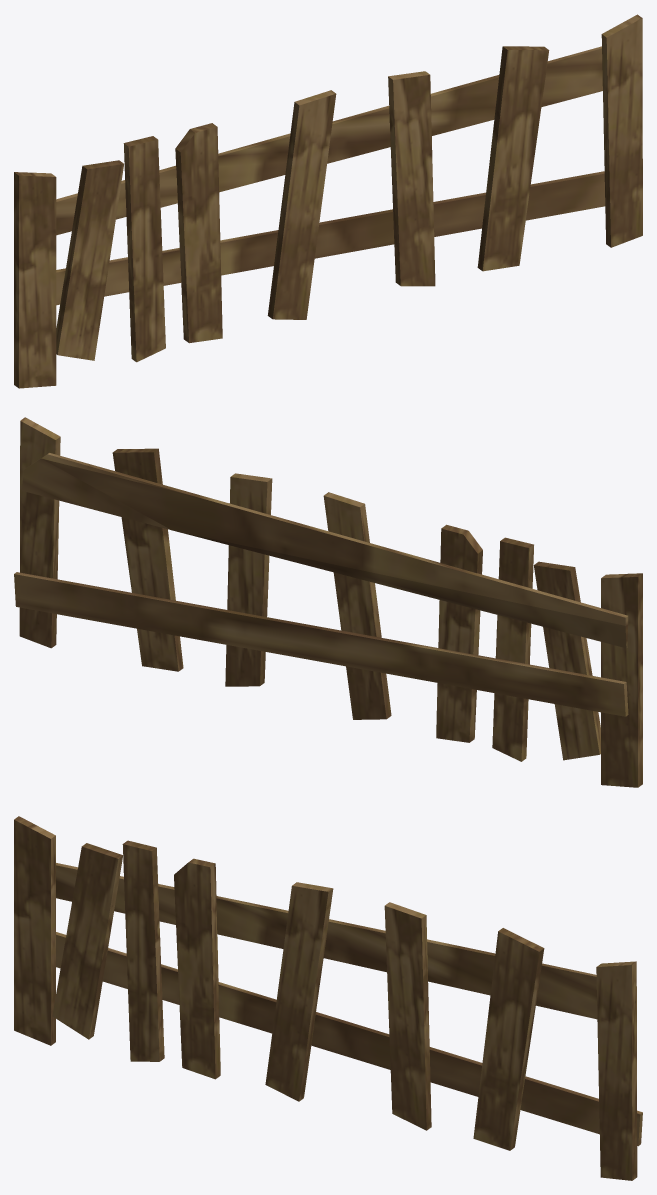
The model's file is SM_Barriere_006.fbx.
3 renders of one model, top to bottom at view 1: azimuth 30°, elevation 25°; view 2: azimuth 150°, elevation 25°; view 3: azimuth 330°, elevation 25°, orthographic.
Parts seen in each view (by area): view 1: polySurface26; view 2: polySurface26; view 3: polySurface26.
Part boxes in pixels (x1,y1,x2,y2): polySurface26: [14, 14, 642, 388]; polySurface26: [14, 417, 642, 787]; polySurface26: [14, 816, 642, 1180].
Size of the model in its own units: 411 by 141 by 9.
